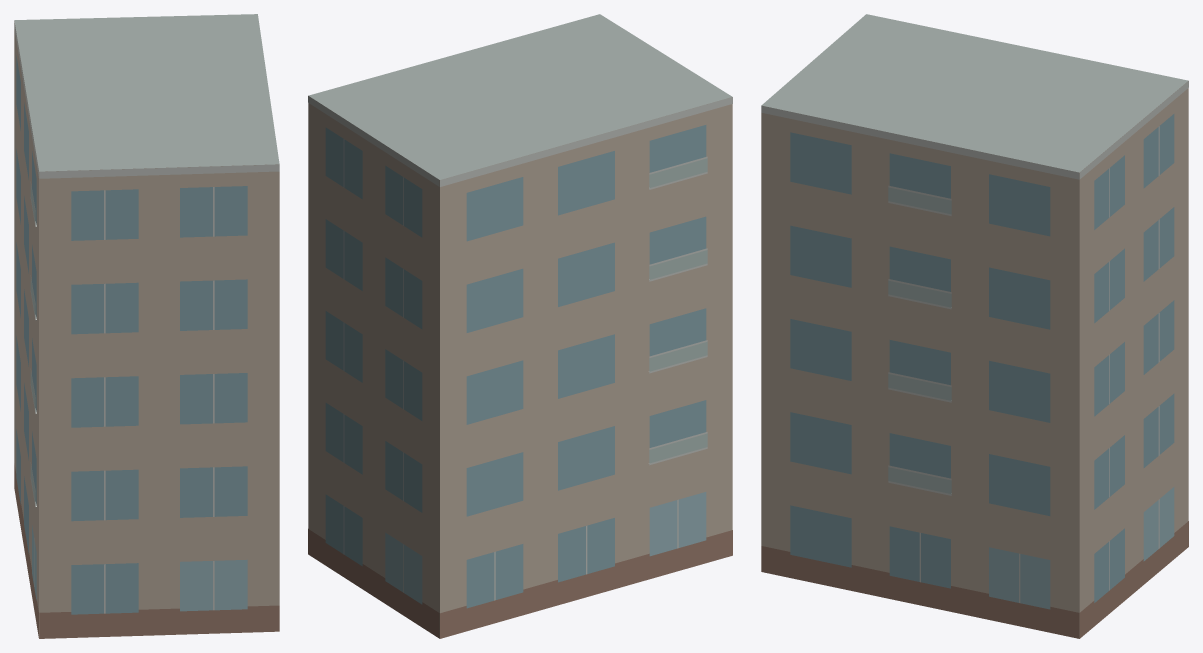
The model's file is survey-upis-33033995.glb.
3 views of the same model, side by side, from view 1: azimuth 30°, elevation 25°; view 2: azimuth 150°, elevation 25°; view 3: azimuth 270°, elevation 25° (orthographic).
Visible parts, largest first — view 1: survey-upis-33033995.tmp; view 2: survey-upis-33033995.tmp; view 3: survey-upis-33033995.tmp.
Boxes of the visible parts, x1=… form: survey-upis-33033995.tmp: x1=14, y1=14, x2=279, y2=638; survey-upis-33033995.tmp: x1=308, y1=14, x2=732, y2=638; survey-upis-33033995.tmp: x1=761, y1=14, x2=1188, y2=638.
Size of the model in its own units: 11.6 by 15.9 by 13.22.
